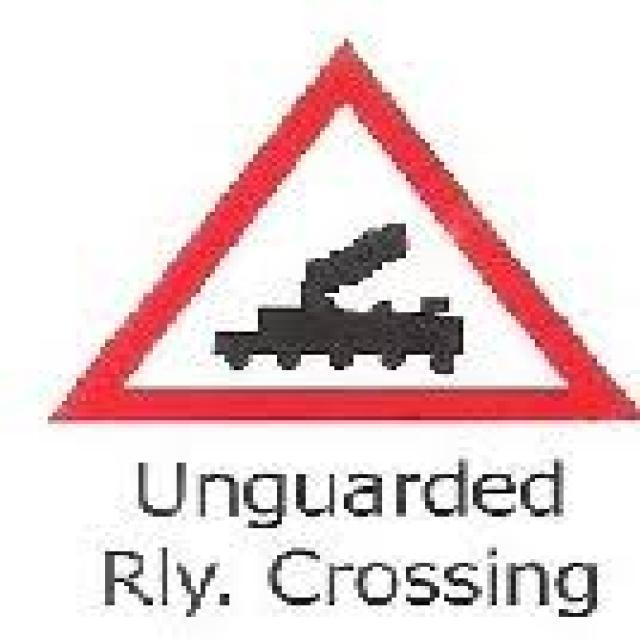unguarded level crossing: (62, 34, 619, 438)
